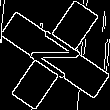N_SE: (23, 24, 87, 86)
